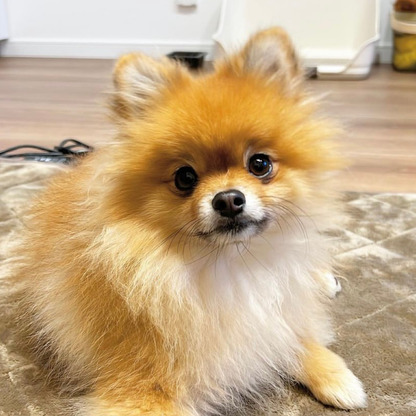Pomeranian: (73, 33, 383, 401)
